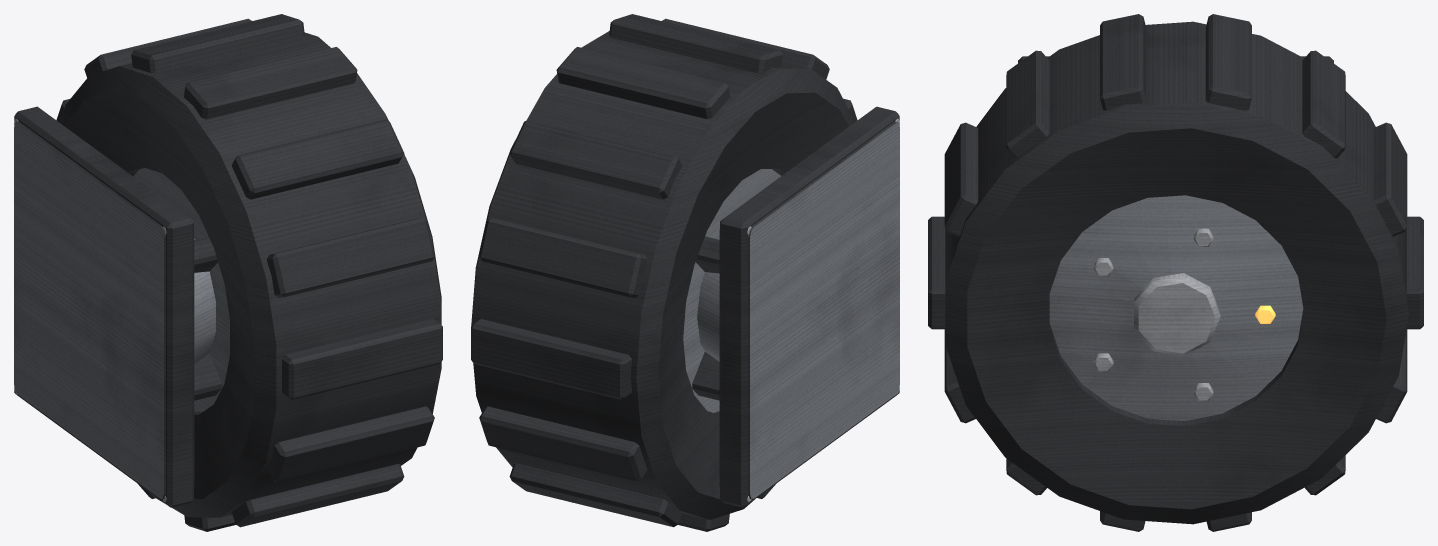
The model's file is R4M_WheelM_Side_Offroad.glb.
3 renders of one model, left to right at view 1: azimuth 30°, elevation 25°; view 2: azimuth 150°, elevation 25°; view 3: azimuth 270°, elevation 25°, orthographic.
Visible parts, largest first — view 1: R4M_WheelM_Side_Offroad_Rotor, R4M_WheelM_Side_Offroad_Mount; view 2: R4M_WheelM_Side_Offroad_Rotor, R4M_WheelM_Side_Offroad_Mount; view 3: R4M_WheelM_Side_Offroad_Rotor.
Part boxes in pixels (x1=…): R4M_WheelM_Side_Offroad_Rotor: x1=56, y1=14, x2=442, y2=531; R4M_WheelM_Side_Offroad_Mount: x1=14, y1=106, x2=221, y2=507; R4M_WheelM_Side_Offroad_Rotor: x1=471, y1=14, x2=857, y2=531; R4M_WheelM_Side_Offroad_Mount: x1=692, y1=106, x2=899, y2=507; R4M_WheelM_Side_Offroad_Rotor: x1=928, y1=14, x2=1423, y2=531.
Size of the model in its own units: 0.452 by 0.7695 by 0.776.
5 materials, 4 textured.
